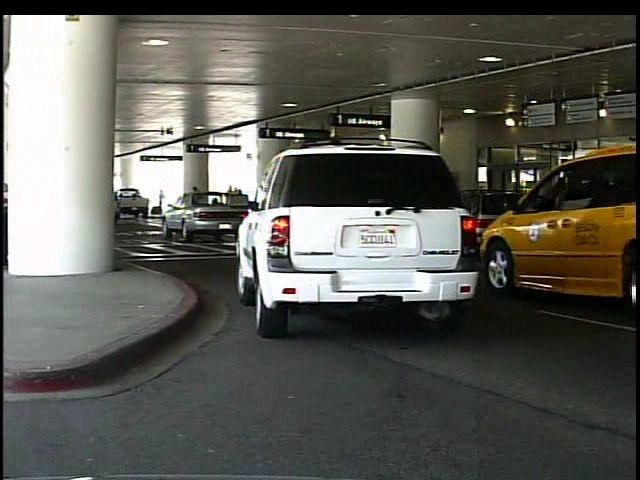person: (547, 173, 576, 259), (160, 188, 167, 215)
